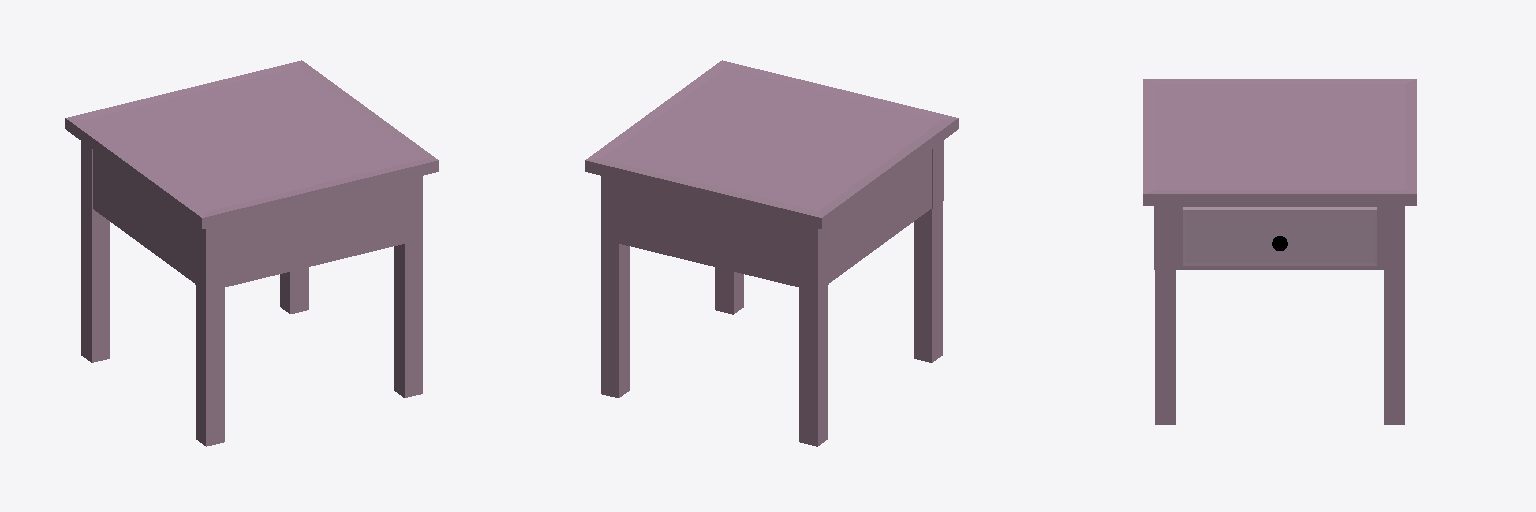
The picture shows the model from 3 angles: view 1: azimuth 30°, elevation 25°; view 2: azimuth 150°, elevation 25°; view 3: azimuth 270°, elevation 25°; orthographic projection.
Parts seen in each view (by area): view 1: pCube5, pCube13, pCube15, pCube14, pCube16; view 2: pCube5, pCube14, pCube16, pCube13, pCube15; view 3: pCube5, pCube12, pCube15, pCube16.
Boxes of the visible parts, box(x1,y1,x2,y2) form: pCube5: box(65, 60, 438, 286); pCube13: box(195, 224, 224, 446); pCube15: box(394, 176, 422, 397); pCube14: box(81, 141, 109, 362); pCube16: box(280, 267, 308, 313); pCube5: box(585, 60, 958, 286); pCube14: box(799, 224, 828, 446); pCube16: box(601, 176, 629, 397); pCube13: box(914, 140, 943, 362); pCube15: box(715, 267, 743, 314); pCube5: box(1143, 79, 1416, 269); pCube12: box(1183, 207, 1376, 265); pCube15: box(1154, 206, 1175, 424); pCube16: box(1383, 206, 1404, 424).
Size of the model in its own units: 2.25 by 2.07 by 2.18.
3 materials, 2 textured.